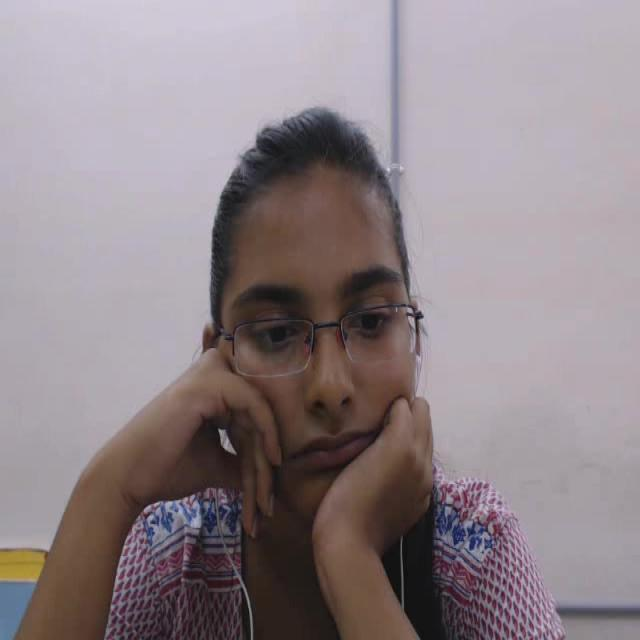Bored: (203, 106, 443, 554)
